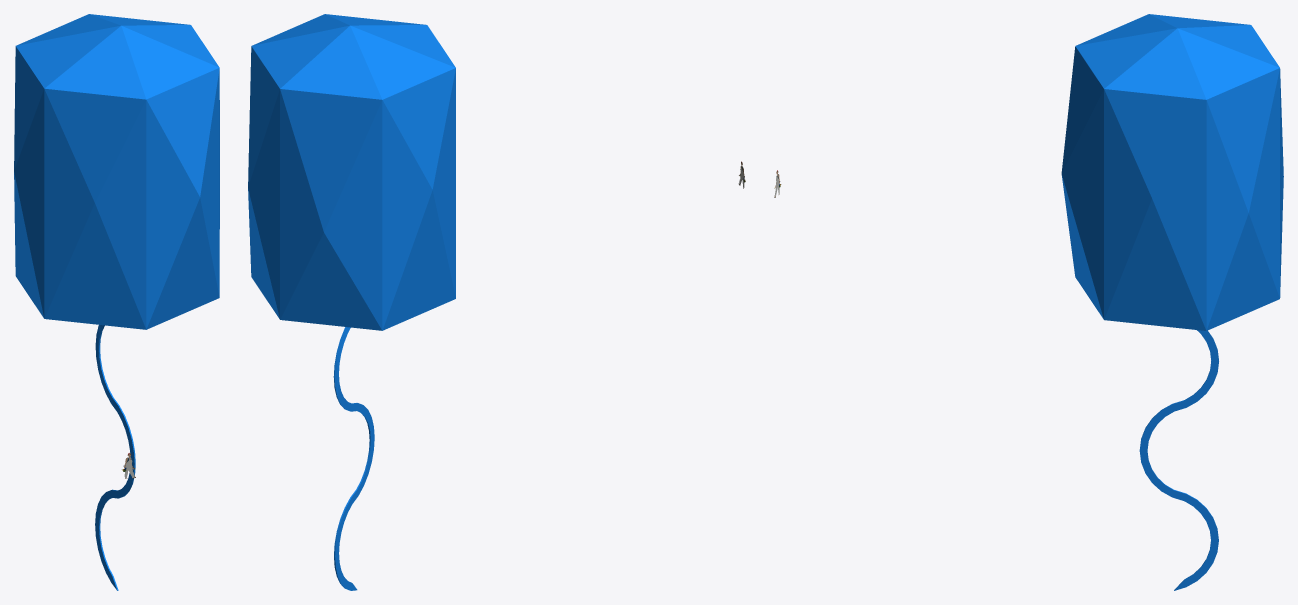
File: bacteria.obj
3 views of the same model, side by side, from view 1: azimuth 30°, elevation 25°; view 2: azimuth 150°, elevation 25°; view 3: azimuth 270°, elevation 25° (orthographic).
Visible parts, largest first — view 1: Mesh2 Model, Mesh3 Model; view 2: Mesh2 Model, Mesh3 Model; view 3: Mesh2 Model, Mesh3 Model.
Boxes of the visible parts, bbox=[...] form: Mesh2 Model: bbox=[14, 14, 219, 329]; Mesh3 Model: bbox=[95, 325, 135, 590]; Mesh2 Model: bbox=[248, 14, 455, 330]; Mesh3 Model: bbox=[333, 327, 374, 590]; Mesh2 Model: bbox=[1061, 14, 1283, 330]; Mesh3 Model: bbox=[1139, 330, 1218, 590].
Size of the model in its own units: 756 by 1436 by 1174.
